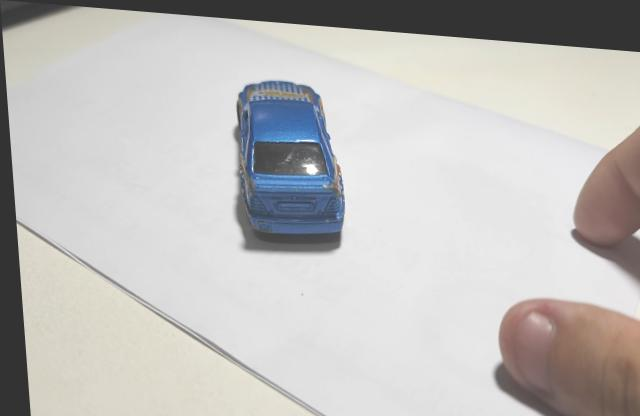04_MERZEDES: (232, 76, 343, 242)
